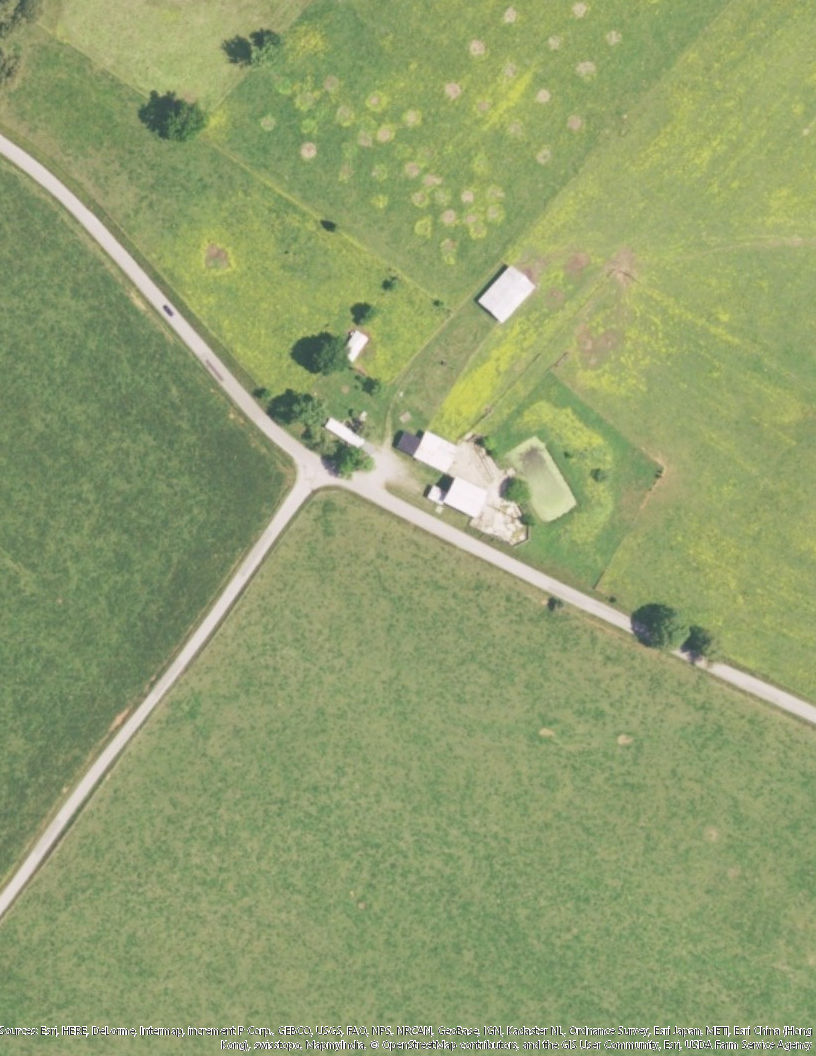cafo: (478, 262, 538, 324), (392, 424, 464, 475), (424, 474, 494, 521)
